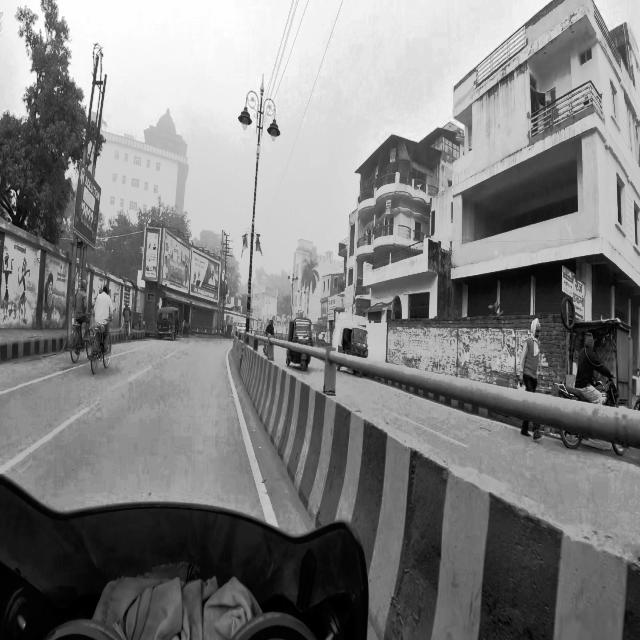Auto-Rickshaw: (288, 316, 312, 371), (338, 322, 370, 357)
